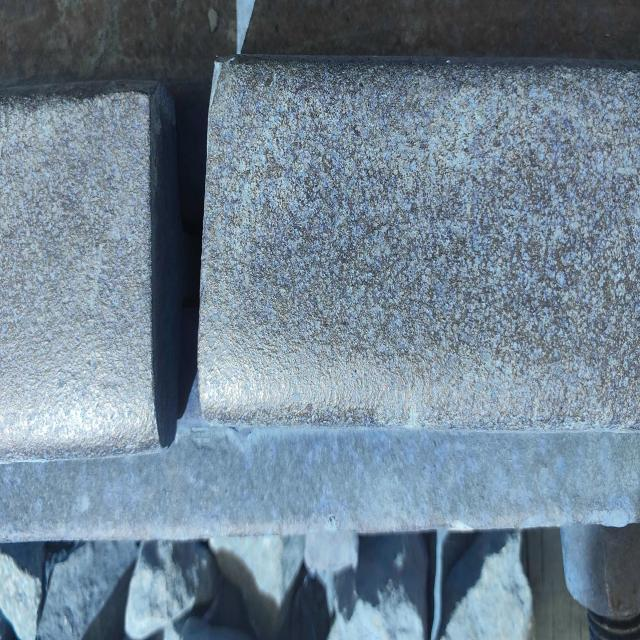broken_rail_medium: (130, 59, 234, 464)
